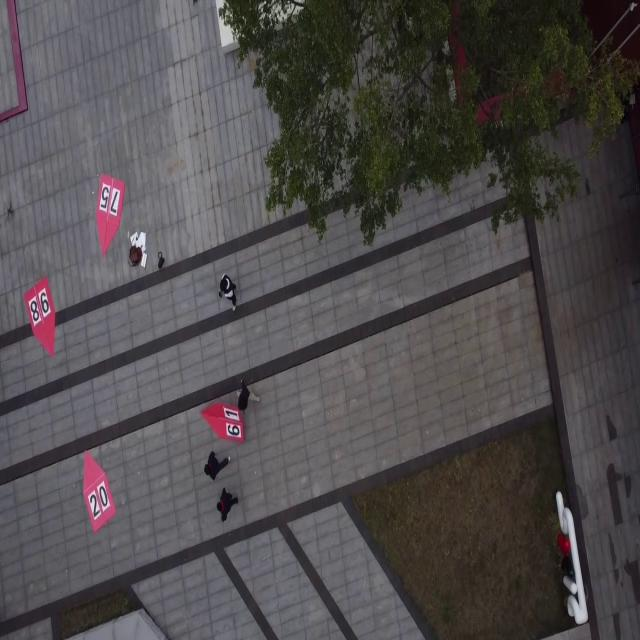-sign-: (83, 450, 116, 532), (24, 277, 56, 358), (96, 175, 125, 256), (201, 403, 245, 443)
